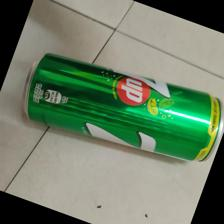7up: (22, 52, 224, 164)
